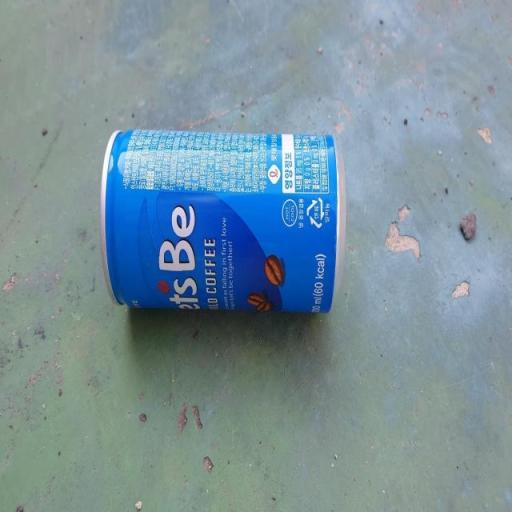metal: (85, 112, 373, 350)
